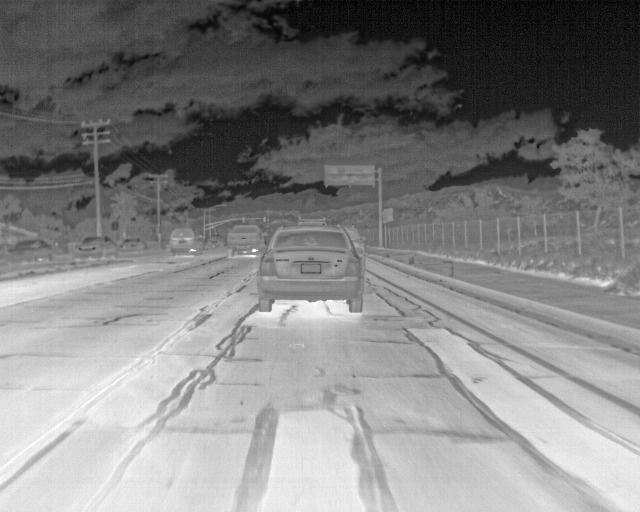car: (258, 224, 365, 312), (227, 223, 263, 254), (9, 237, 50, 261), (76, 233, 116, 256), (168, 227, 201, 250), (342, 226, 364, 260), (120, 236, 147, 252)
